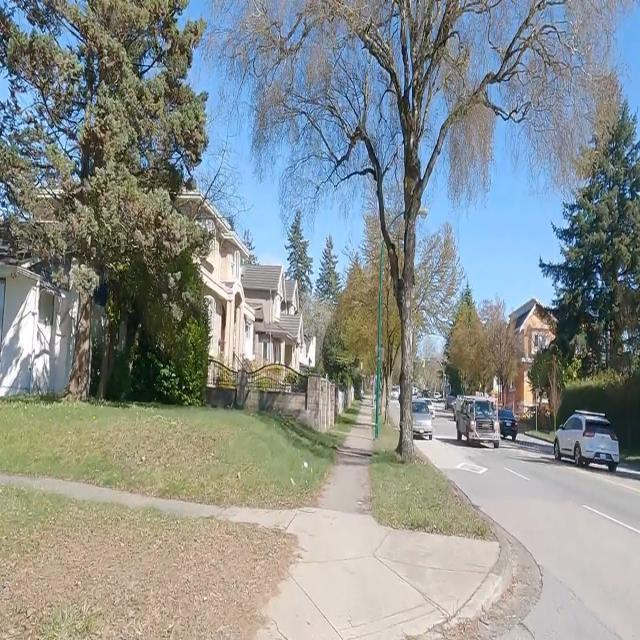Automobile: (554, 411, 619, 471), (456, 396, 498, 447), (412, 400, 432, 439), (500, 408, 517, 440)
Road: (416, 421, 639, 639)
Sidewalk: (227, 508, 505, 639), (0, 473, 293, 529), (317, 401, 374, 512)
